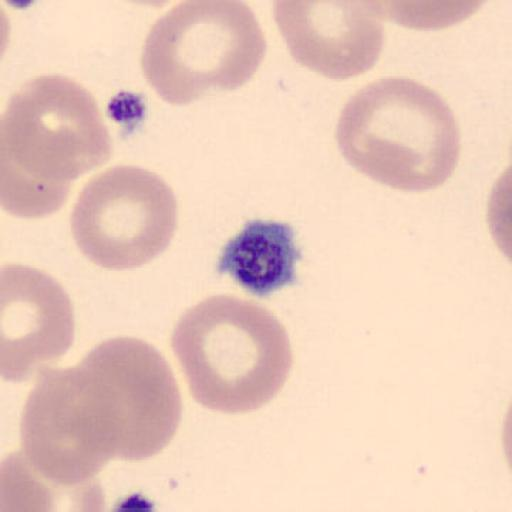Platelet: (214, 216, 304, 298), (102, 86, 151, 141)
RBC: (168, 292, 294, 416), (333, 74, 463, 194), (76, 334, 183, 464), (139, 0, 269, 107), (18, 360, 127, 484), (1, 71, 114, 184), (68, 163, 181, 273), (139, 2, 232, 108), (272, 0, 388, 82), (1, 261, 77, 375), (2, 142, 75, 220), (14, 462, 107, 512), (379, 0, 493, 32), (1, 450, 57, 512), (485, 162, 512, 270), (499, 392, 512, 482), (102, 0, 189, 11), (0, 3, 13, 68)
